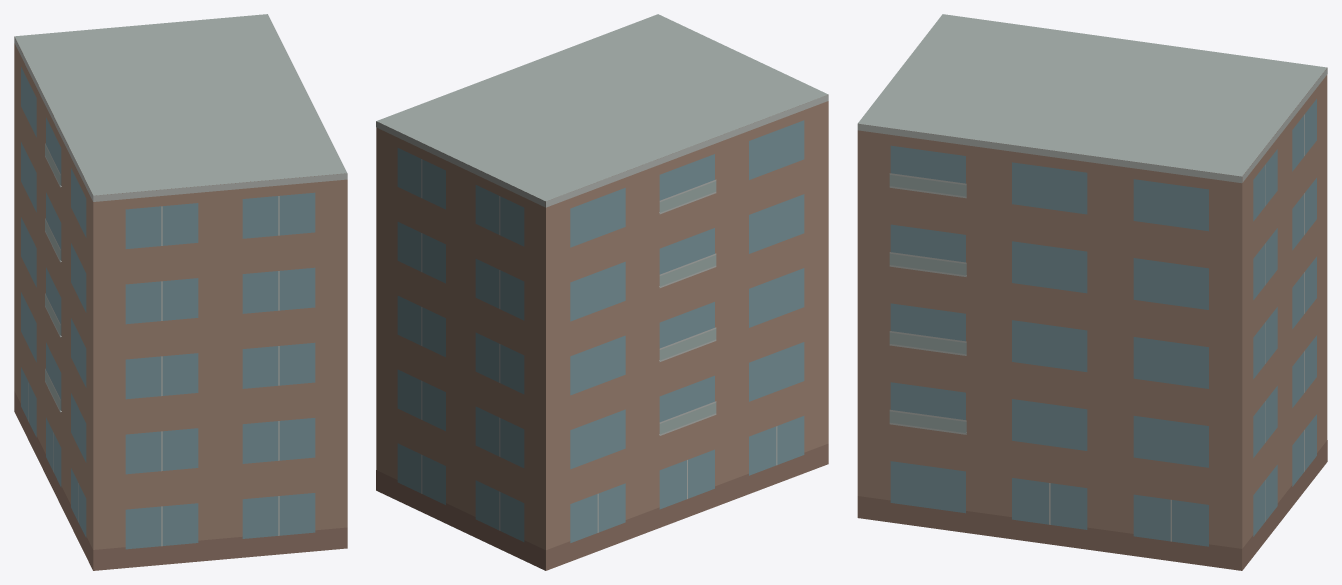
The model's file is survey-upis-32999941.glb.
3 views of the same model, side by side, from view 1: azimuth 30°, elevation 25°; view 2: azimuth 150°, elevation 25°; view 3: azimuth 270°, elevation 25° (orthographic). The views are drawn at different scales.
Parts seen in each view (by area): view 1: survey-upis-32999941.tmp; view 2: survey-upis-32999941.tmp; view 3: survey-upis-32999941.tmp.
Part boxes in pixels (box(x1,y1,x2,y2)): survey-upis-32999941.tmp: box(14, 14, 347, 570); survey-upis-32999941.tmp: box(376, 14, 828, 570); survey-upis-32999941.tmp: box(857, 14, 1327, 570).
Size of the model in its own units: 12.7 by 14.35 by 15.51.
